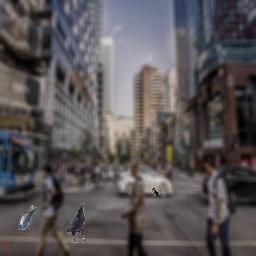Crow: (67, 203, 85, 243)
Swallow: (18, 205, 37, 230), (152, 187, 164, 197)
